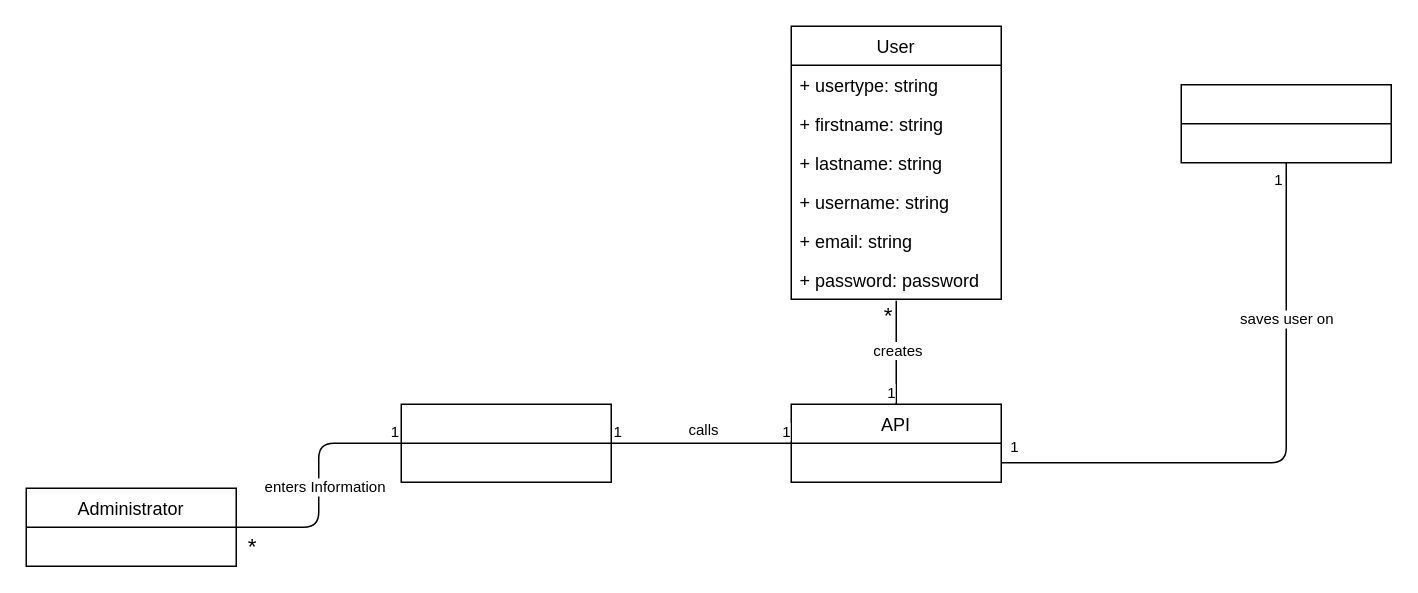
Image size: 1418x593. Some labels were removed from this diagram. Here are the shapes that lost their labels. From the top down, the centre of each, then its label:
pixel 1285 123: Database
pixel 505 442: UI
